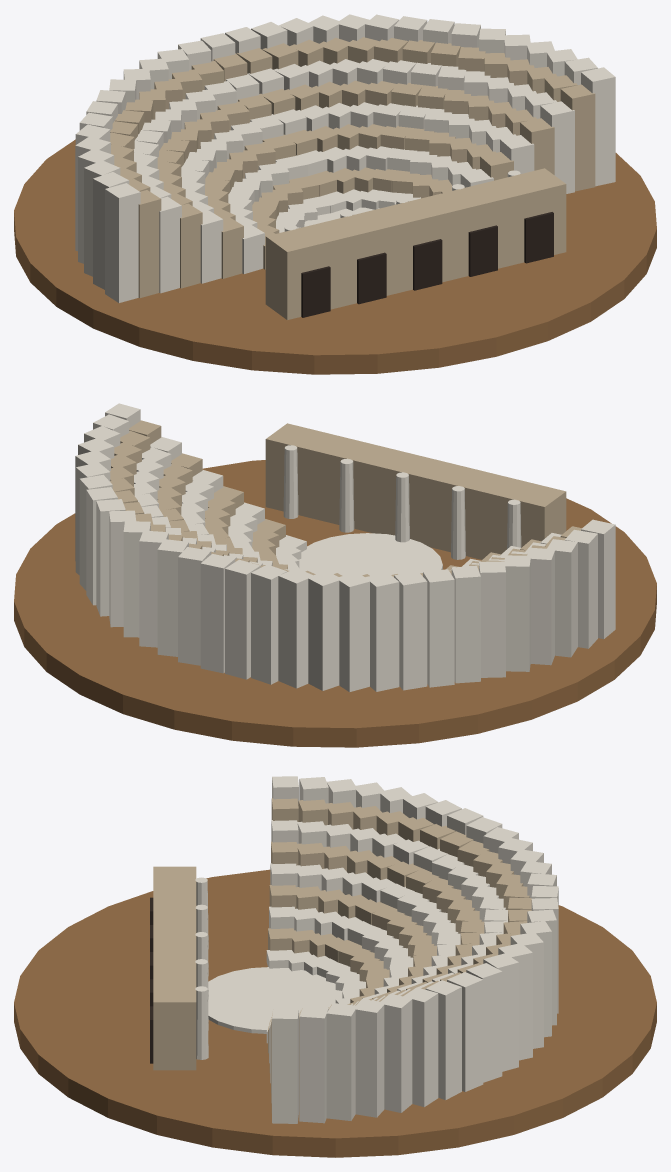
The model's file is efes_tiyatro.glb.
3 views of the same model, one above another, from view 1: azimuth 30°, elevation 25°; view 2: azimuth 150°, elevation 25°; view 3: azimuth 270°, elevation 25° (orthographic).
Size of the model in its own units: 0.6 by 0.128 by 0.6.
